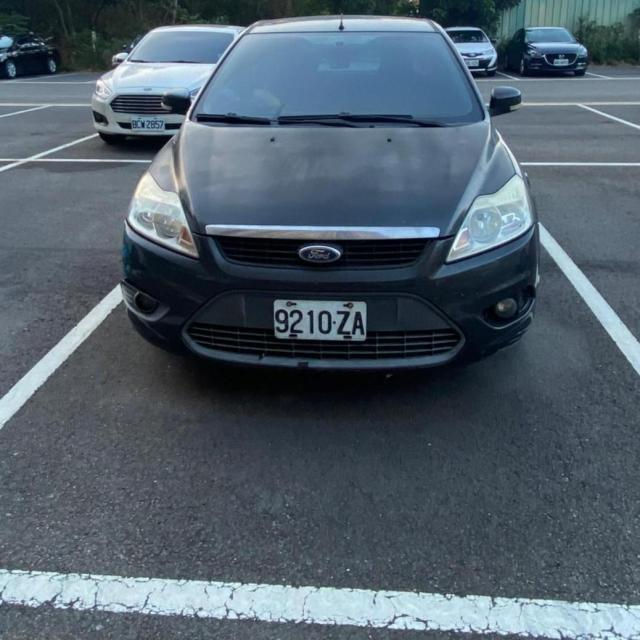W: (272, 299, 367, 343), (129, 115, 166, 133)
